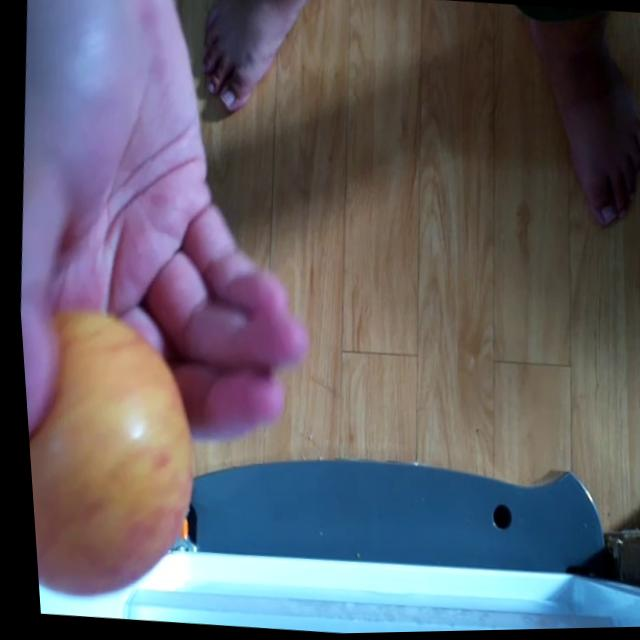apple: (16, 295, 211, 605)
